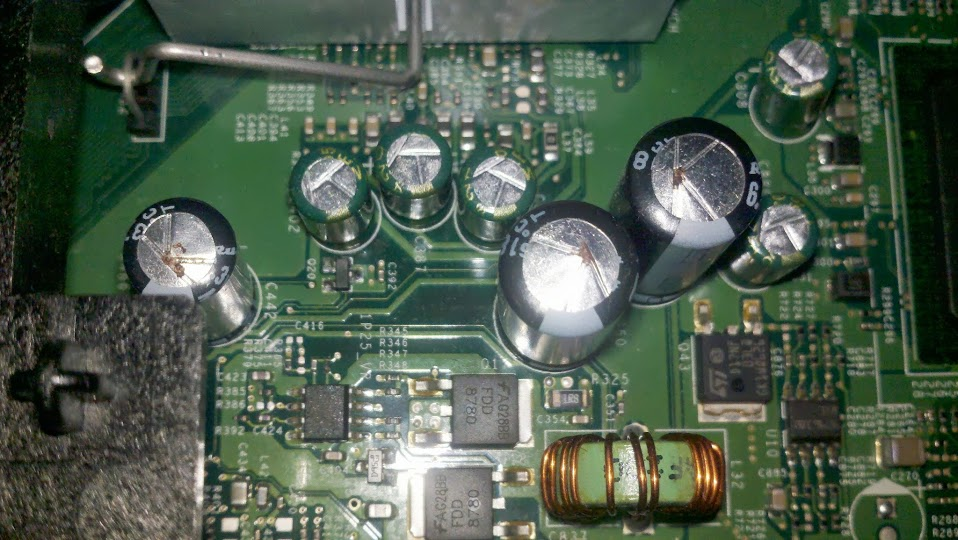capacitor: (612, 96, 752, 318), (97, 188, 271, 360), (499, 189, 639, 392), (279, 138, 377, 273), (750, 26, 843, 161), (367, 114, 457, 238), (452, 126, 529, 249)
